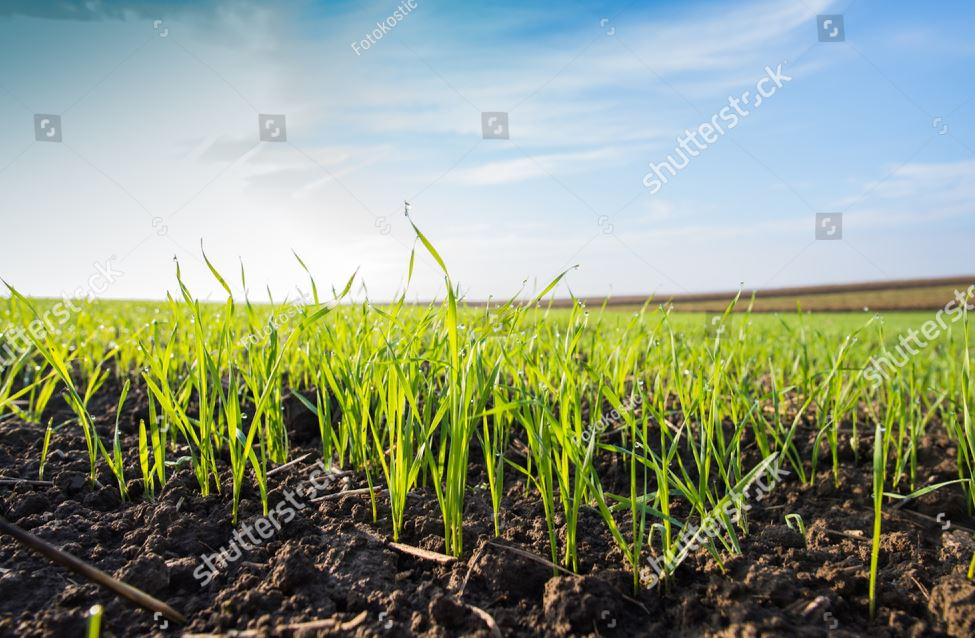Wheat: (40, 293, 866, 465)
